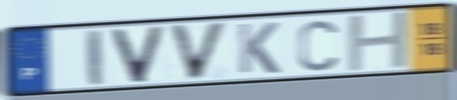C: (296, 18, 340, 73)
H: (345, 9, 412, 75)
I: (84, 27, 106, 87)
K: (235, 21, 282, 76)
V: (167, 20, 230, 83), (108, 24, 167, 85)
